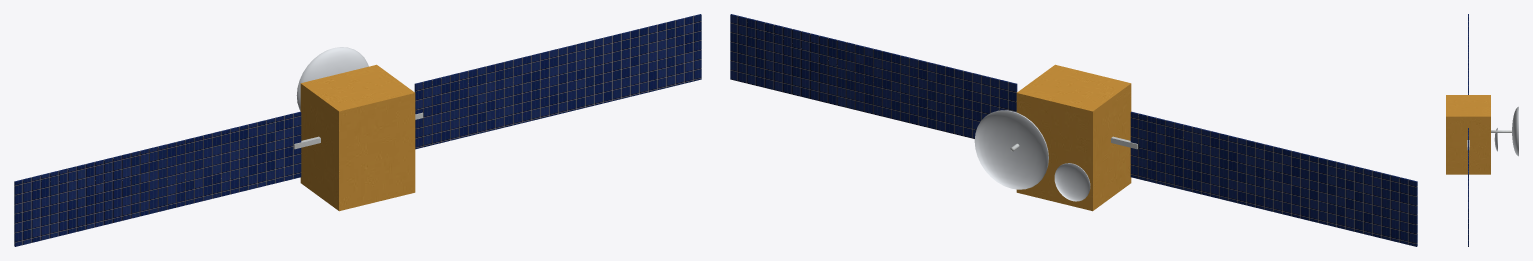
The model's file is geo_comsat.glb.
The picture shows the model from 3 angles, left to right: view 1: azimuth 30°, elevation 25°; view 2: azimuth 150°, elevation 25°; view 3: azimuth 270°, elevation 25°; orthographic projection. The views are drawn at different scales.
Parts seen in each view (by area): view 1: comsat_wing_l, comsat_wing_r, comsat_bus, comsat_dish; view 2: comsat_wing_l, comsat_wing_r, comsat_bus, comsat_dish, comsat_dish_small; view 3: comsat_bus, comsat_dish, comsat_wing_r, comsat_wing_l, comsat_boom, comsat_dish_small.
Boxes of the visible parts, bbox=[...] form: comsat_wing_l: bbox=[14, 111, 301, 246]; comsat_wing_r: bbox=[414, 14, 701, 149]; comsat_bus: bbox=[300, 64, 415, 211]; comsat_dish: bbox=[296, 47, 368, 110]; comsat_wing_l: bbox=[1130, 111, 1417, 246]; comsat_wing_r: bbox=[730, 14, 1017, 138]; comsat_bus: bbox=[1016, 64, 1131, 211]; comsat_dish: bbox=[974, 110, 1048, 189]; comsat_dish_small: bbox=[1054, 163, 1090, 201]; comsat_bus: bbox=[1446, 95, 1490, 174]; comsat_dish: bbox=[1512, 106, 1518, 156]; comsat_wing_r: bbox=[1468, 128, 1468, 246]; comsat_wing_l: bbox=[1468, 14, 1468, 94]; comsat_boom: bbox=[1491, 130, 1511, 132]; comsat_dish_small: bbox=[1494, 128, 1497, 151].
Bounding box in the file's own units: 28.8 × 4.15 × 4.55.
4 materials, 3 textured.
